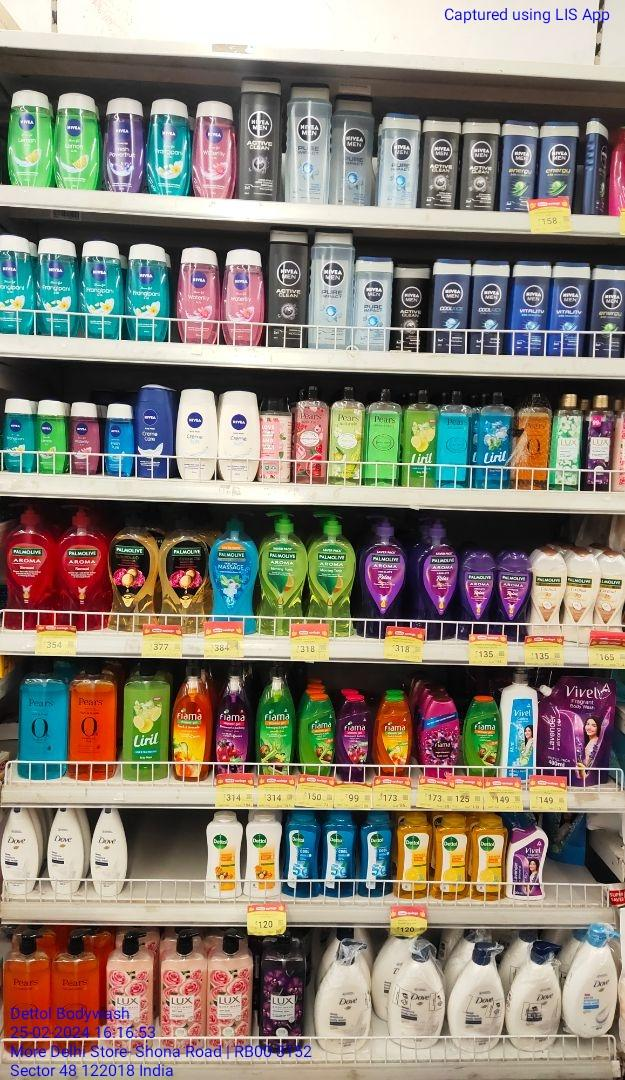Dettol_Bodywash_Cool: (286, 813, 320, 897), (361, 814, 395, 895), (323, 814, 356, 897)
Dettol_Bodywash_Refresh: (397, 814, 432, 899), (434, 815, 469, 898), (473, 816, 506, 901)
Dettol_Nourish_Body_Wash_250ML: (205, 812, 242, 898), (246, 812, 281, 896)
Dove_Deep_Moisture_Body_Wash_250ML: (1, 808, 39, 895), (90, 809, 127, 895), (47, 808, 84, 893)
Fiama_Shower_Gel_Lemongrass_and_Jojoba_250ML: (466, 696, 503, 776)
Fiama_Shower_Gel_Peach_and_Avocado_250ML: (378, 696, 414, 778)
Liril_Cooling_Mint_Body_Wash_250ML: (477, 391, 512, 489)
Liril_Lime_and_Tea_Tree_Oil_Body_Wash_250ML: (404, 390, 438, 488)
Lux_Black_Orchid_Scent_and_Juniper_Oil_Body_Wash_245ML: (586, 394, 612, 491)
Lux_Body_Wash_Skin_Detox_Freesia_Scent_and_Alove_Vera_245ML: (554, 393, 584, 491)
Nivea_Shower_Gel_Frangipani_and_Oil_250ML: (36, 237, 80, 336), (146, 99, 190, 194), (128, 243, 168, 339), (83, 239, 122, 337), (0, 235, 30, 334)
Nivea_Shower_Gel_Fresh_Powerfruit_250ML: (106, 97, 144, 193)
Nivea_Shower_Gel_Lemon_and_Oil_250ML: (55, 91, 98, 190), (7, 91, 51, 187)
Nivea_Shower_Gel_Waterlily_and_Oil_250ML: (193, 100, 237, 197), (179, 248, 221, 344), (224, 248, 265, 345)
Palmolive_Aroma_Relax_250ML: (464, 551, 499, 640), (501, 550, 533, 641)
Palmolive_Coconut_Joy_Exfoliating_Body_Wash_250ML: (534, 546, 568, 642), (572, 548, 598, 643), (601, 552, 625, 645)
Pears_Naturale_Aloe_Vera_Body_Wash_250ML: (328, 387, 363, 486)
Pears_Pure_Glycerin_and_Lemon_Flower_Extracts_Body_Wash_250ML: (365, 389, 401, 486)
Pears_Pure_Glycerin_and_Mint_Extracts_Body_Wash_250ML: (439, 390, 471, 487)
